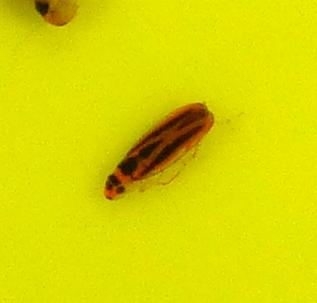Hemiptera: (100, 100, 217, 203)
